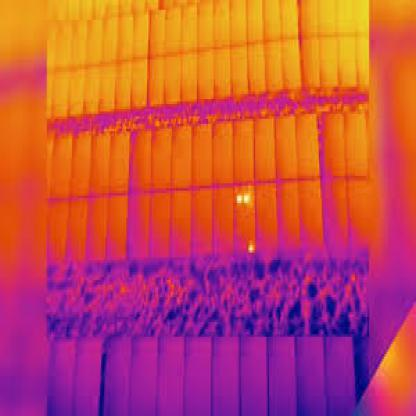Defects: (235, 191, 242, 203), (243, 188, 248, 203), (249, 243, 252, 255)
